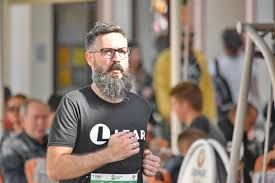no-mask: (82, 21, 145, 99)
